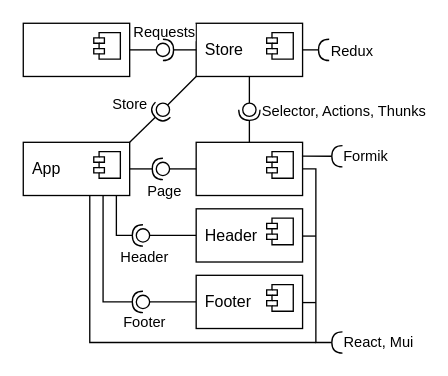
Image size: 448x376. Some labels were removed from this diagram. Each missing label, with the box of its shape:
Api: (22, 22, 130, 76)
Pages: (195, 141, 303, 196)
